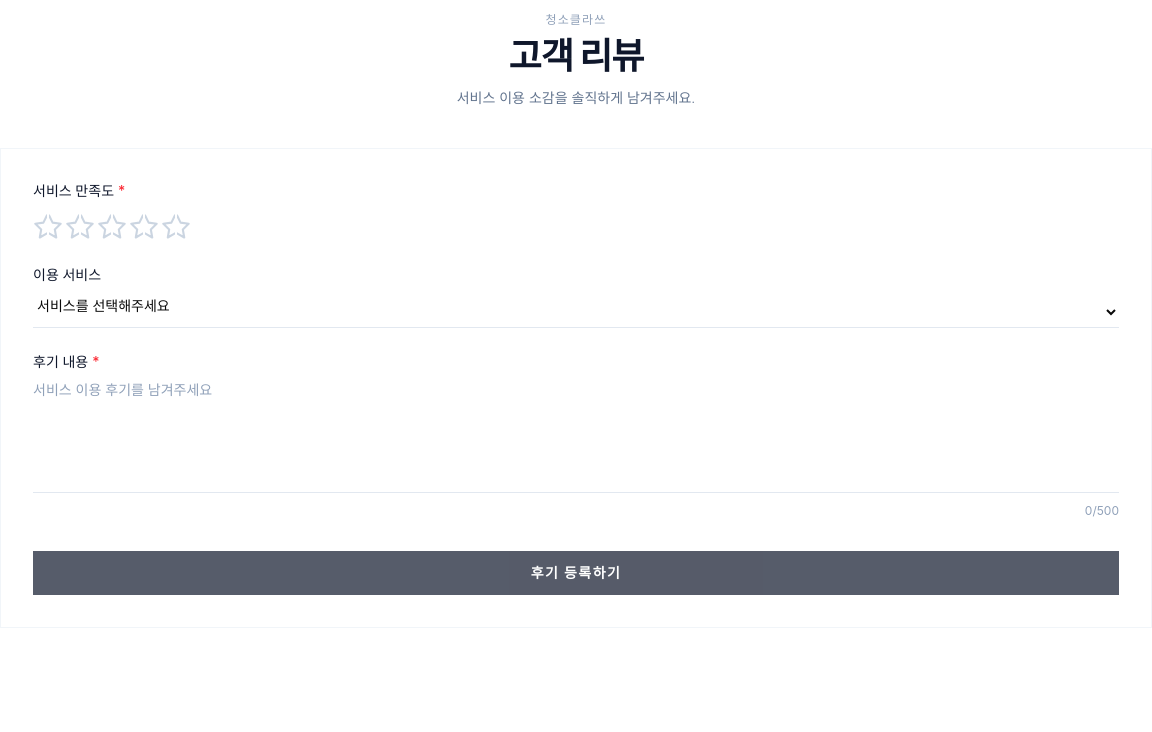
Test: ReviewSubmitForm (browser) › should render the success card after a successful submission
This screenshot has width=1152, height=732.
Click the button named "5점".
click(184, 227)  # box [177,213,191,241]
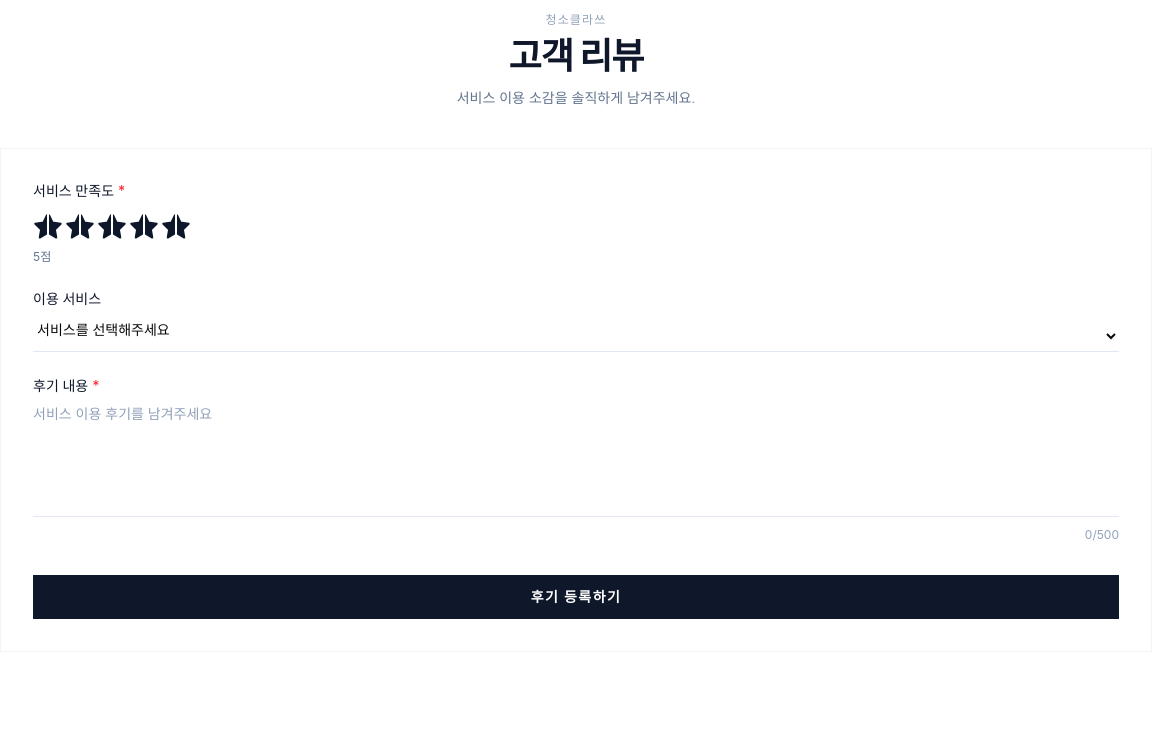
Type "정말 깨끗하게 청소해주셨어요" into the text box labelled "후기 내용*".
click(576, 460); type("정말 깨끗하게 청소해주셨어요")  # box [33,404,1119,517]
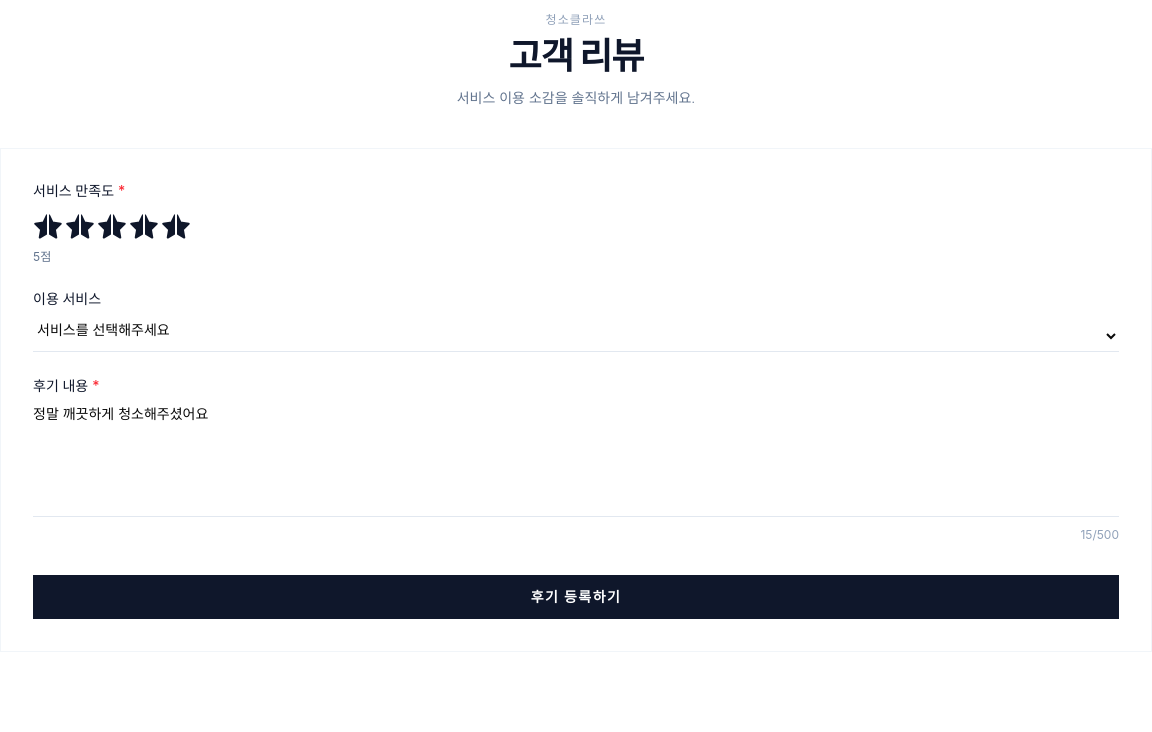
Submit the form "서비스 만족도* 5점 이용 서비스 후기 내용* 15/500 후기 등록하기", box [33,181,1119,619]
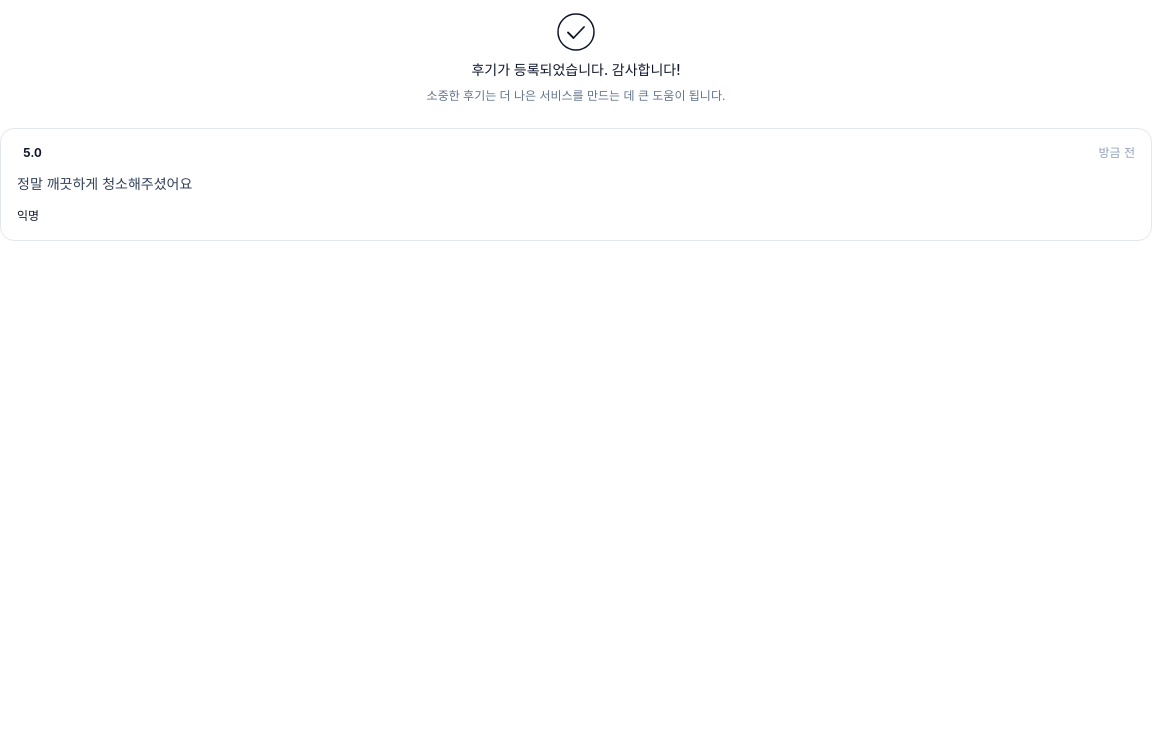
Expected: the text "후기가 등록되었습니다. 감사합니다!" is shown, [472,60,680,80]
Expected: the button "후기 등록하기" is gone
